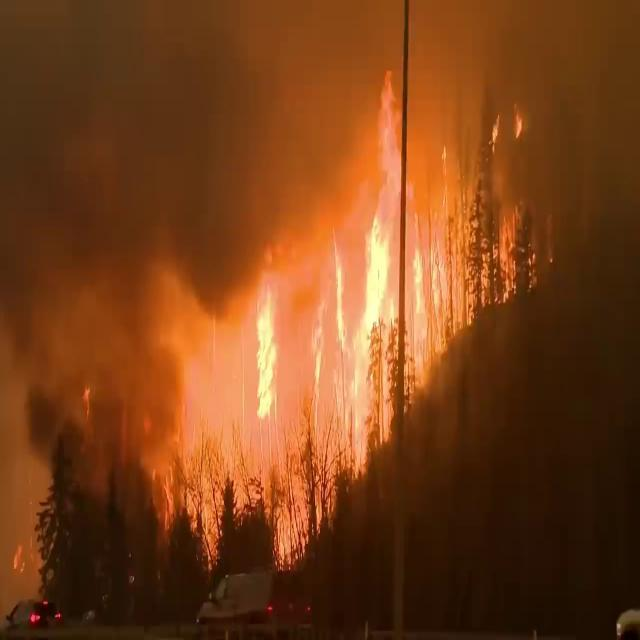Fire: (238, 71, 474, 532)
Smoke: (0, 2, 244, 600)
